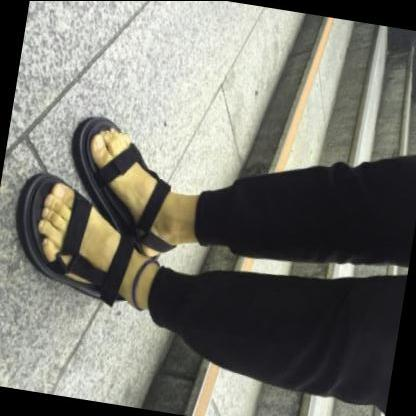no_safety-shoe: (1, 172, 144, 330), (52, 101, 193, 209)
